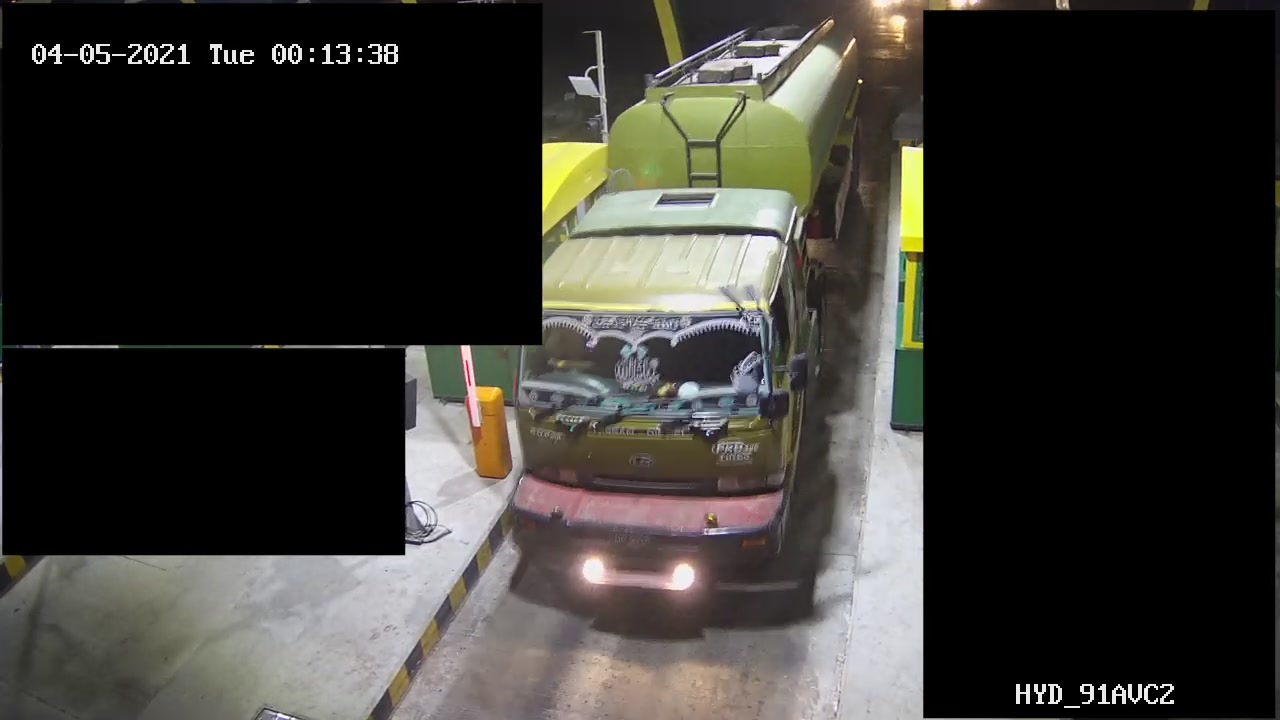F6: (479, 2, 898, 628)
